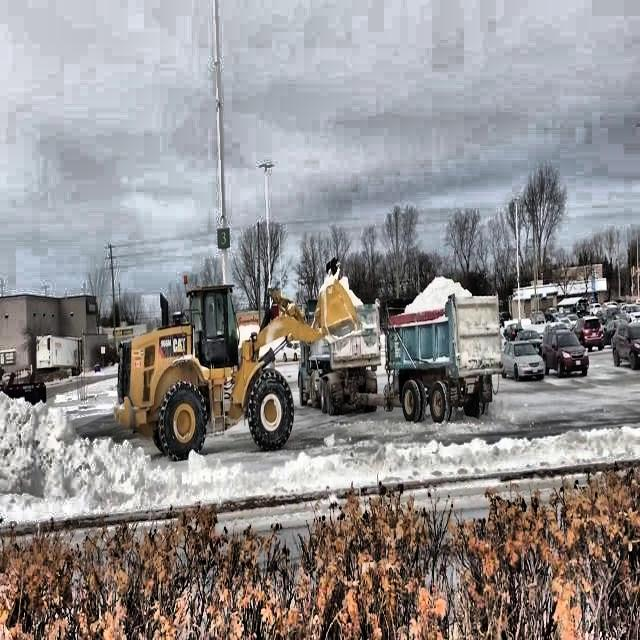bull_dozer/loader/grader: (112, 270, 358, 465)
dump_truck: (378, 276, 500, 422), (298, 281, 378, 414)
